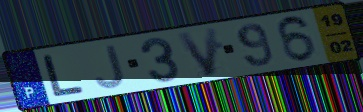3: (139, 36, 181, 84)
6: (276, 13, 322, 66)
9: (235, 21, 276, 69)
J: (93, 43, 128, 90)
L: (40, 52, 88, 98)
V: (174, 25, 220, 79)
